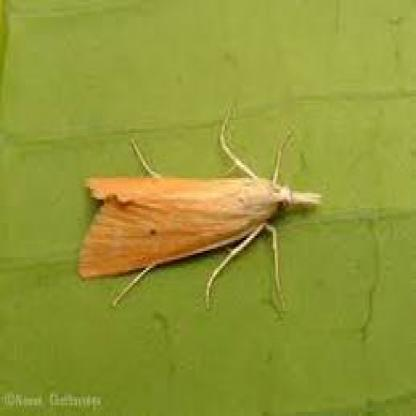stem-borer: (76, 110, 324, 314)
